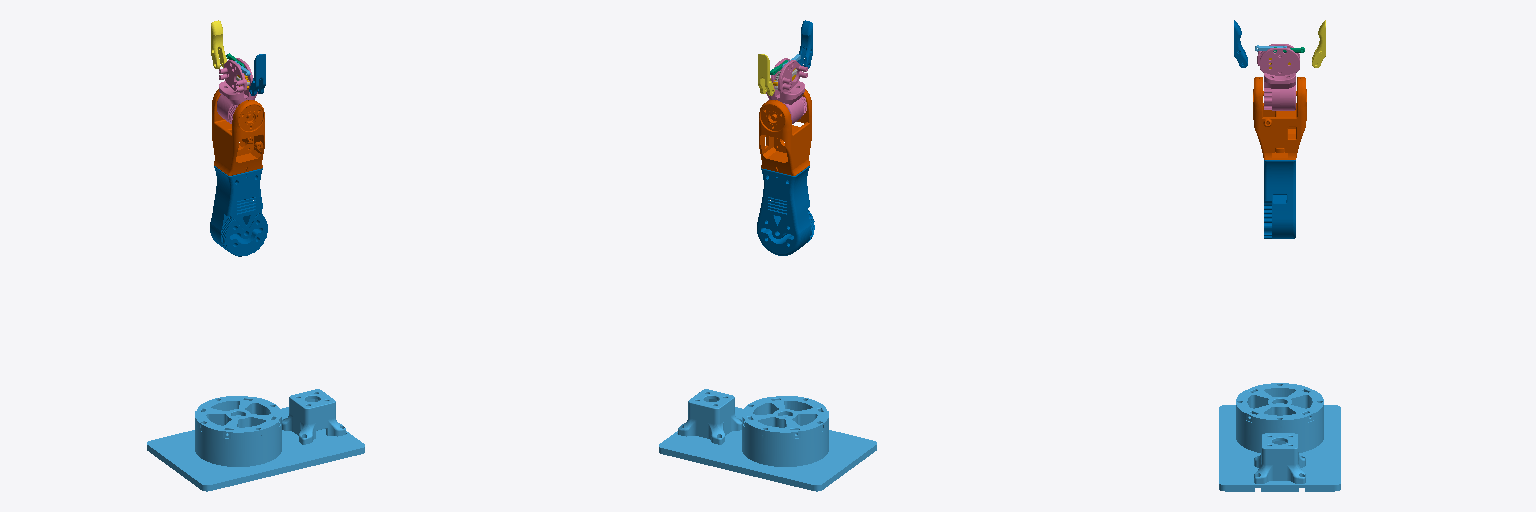
URDF robot description (oroca_manipulator):
<?xml version="1.0" ?>
<robot name="oroca_manipulator">

    <link name="world"/>
    <link name="base_link">
        <visual>
            <origin xyz="0 0 0" rpy="0 0 0"/>
            <geometry>
                <mesh filename="package://oroca_manipulator_description/meshes/base_link.stl" scale="1 1 1"/>
            </geometry>
        </visual>
        <collision>
            <origin xyz="0 0 0" rpy="0 0 0"/>
            <geometry>
                <mesh filename="package://oroca_manipulator_description/meshes/base_link.stl" scale="1 1 1"/>
            </geometry>
        </collision>
        <inertial>
            <mass value="1.0"/>
            <origin xyz="0 0 0" rpy="0 0 0"/>
            <inertia ixx="1.0" ixy="0.0" ixz="0.0" iyy="1.0" iyz="0.0" izz="1.0"/>
        </inertial>
    </link>

    <joint name="base_link_fixed" type="fixed">
        <parent link="world"/>
        <child link="base_link"/>
        <origin xyz="0 0 0" rpy="0 0 0"/>
    </joint>

    <link name="arm_link1">
        <visual>
            <origin xyz="0 0 0" rpy="0 0 0"/>
            <geometry>
                <mesh filename="package://oroca_manipulator_description/meshes/arm_link1.stl" scale="1 1 1"/>
            </geometry>
        </visual>
        <collision>
            <origin xyz="0 0 0" rpy="0 0 0"/>
            <geometry>
                <mesh filename="package://oroca_manipulator_description/meshes/arm_link1.stl" scale="1 1 1"/>
            </geometry>
        </collision>
        <inertial>
            <mass value="1.0"/>
            <origin xyz="0 0 0" rpy="0 0 0"/>
            <inertia ixx="1.0" ixy="0.0" ixz="0.0" iyy="1.0" iyz="0.0" izz="1.0"/>
        </inertial>
    </link>

    <joint name="arm_joint1" type="revolute">
        <parent link="base_link"/>
        <child link="arm_link1"/>
        <origin xyz="0 0 0.068" rpy="0 0 0"/>
        <axis xyz="0 0 1"/>
        <limit effort="10" velocity="1.0" lower="-3.14" upper="3.14"/>
    </joint>
   

    <link name="arm_link2">
        <visual>
            <origin xyz="0 0 0" rpy="0 0 0"/>
            <geometry>
                <mesh filename="package://oroca_manipulator_description/meshes/arm_link2.stl" scale="1 1 1"/>
            </geometry>
        </visual>
        <collision>
            <origin xyz="0 0 0" rpy="0 0 0"/>
            <geometry>
                <mesh filename="package://oroca_manipulator_description/meshes/arm_link2.stl" scale="1 1 1"/>
            </geometry>
        </collision>
        <inertial>
            <mass value="1.0"/>
            <origin xyz="0 0 0" rpy="0 0 0"/>
            <inertia ixx="1.0" ixy="0.0" ixz="0.0" iyy="1.0" iyz="0.0" izz="1.0"/>
        </inertial>
    </link>

    <joint name="arm_joint2" type="revolute">
        <parent link="arm_link1"/>
        <child link="arm_link2"/>
        <origin xyz="0 0 0.129" rpy="0 0 0"/>
        <axis xyz="0 1 0"/>
        <limit effort="10" velocity="1.0" lower="-1.57" upper="1.57"/>
    </joint>
    

    <link name="arm_link3">
        <visual>
            <origin xyz="0 0 0" rpy="0 0 0"/>
            <geometry>
                <mesh filename="package://oroca_manipulator_description/meshes/arm_link3.stl" scale="1 1 1"/>
            </geometry>
        </visual>
        <collision>
            <origin xyz="0 0 0" rpy="0 0 0"/>
            <geometry>
                <mesh filename="package://oroca_manipulator_description/meshes/arm_link3.stl" scale="1 1 1"/>
            </geometry>
        </collision>
        <inertial>
            <mass value="1.0"/>
            <origin xyz="0 0 0" rpy="0 0 0"/>
            <inertia ixx="1.0" ixy="0.0" ixz="0.0" iyy="1.0" iyz="0.0" izz="1.0"/>
        </inertial>
    </link>

    <joint name="arm_joint3" type="revolute">
        <parent link="arm_link2"/>
        <child link="arm_link3"/>
        <origin xyz="0 0 0.175" rpy="0 0 0"/>
        <axis xyz="0 1 0"/>
        <limit effort="10" velocity="1.0" lower="-1.57" upper="1.57"/>
    </joint>
    

    <link name="arm_link4">
        <visual>
            <origin xyz="0 0 0" rpy="0 0 0"/>
            <geometry>
                <mesh filename="package://oroca_manipulator_description/meshes/arm_link4.stl" scale="1 1 1"/>
            </geometry>
        </visual>
        <collision>
            <origin xyz="0 0 0" rpy="0 0 0"/>
            <geometry>
                <mesh filename="package://oroca_manipulator_description/meshes/arm_link4.stl" scale="1 1 1"/>
            </geometry>
        </collision>
        <inertial>
            <mass value="1.0"/>
            <origin xyz="0 0 0" rpy="0 0 0"/>
            <inertia ixx="1.0" ixy="0.0" ixz="0.0" iyy="1.0" iyz="0.0" izz="1.0"/>
        </inertial>
    </link>

    <joint name="arm_joint4" type="revolute">
        <parent link="arm_link3"/>
        <child link="arm_link4"/>
        <origin xyz="0 0 0.1005" rpy="0 0 0"/>
        <axis xyz="0 0 1"/>
        <limit effort="10" velocity="1.0" lower="-1.57" upper="1.57"/>
    </joint>
    

    <link name="arm_link5">
        <visual>
            <origin xyz="0 0 0" rpy="0 0 0"/>
            <geometry>
                <mesh filename="package://oroca_manipulator_description/meshes/arm_link5.stl" scale="1 1 1"/>
            </geometry>
        </visual>
        <collision>
            <origin xyz="0 0 0" rpy="0 0 0"/>
            <geometry>
                <mesh filename="package://oroca_manipulator_description/meshes/arm_link5.stl" scale="1 1 1"/>
            </geometry>
        </collision>
        <inertial>
            <mass value="1.0"/>
            <origin xyz="0 0 0" rpy="0 0 0"/>
            <inertia ixx="1.0" ixy="0.0" ixz="0.0" iyy="1.0" iyz="0.0" izz="1.0"/>
        </inertial>
    </link>

    <joint name="arm_joint5" type="revolute">
        <parent link="arm_link4"/>
        <child link="arm_link5"/>
        <origin xyz="0 0 0.0945" rpy="0 0 0"/>
        <axis xyz="0 1 0"/>
        <limit effort="10" velocity="1.0" lower="-1.57" upper="1.57"/>
    </joint>
    
    <link name="gripper_l_outer_link">
        <visual>
            <origin xyz="0 0 0" rpy="0 0 1.57"/>
            <geometry>
                <mesh filename="package://oroca_manipulator_description/meshes/gripper_outer_link.stl" scale="1 1 1"/>
            </geometry>
        </visual>
        <collision>
            <origin xyz="0 0 0" rpy="0 0 1.57"/>
            <geometry>
                <mesh filename="package://oroca_manipulator_description/meshes/gripper_outer_link.stl" scale="1 1 1"/>
            </geometry>
        </collision>
        <inertial>
            <mass value="1.0"/>
            <origin xyz="0 0 0" rpy="0 0 0"/>
            <inertia ixx="1.0" ixy="0.0" ixz="0.0" iyy="1.0" iyz="0.0" izz="1.0"/>
        </inertial>
    </link>

    <joint name="gripper_joint" type="revolute">
        <parent link="arm_link5"/>
        <child link="gripper_l_outer_link"/>
        <origin xyz="0 0.014 0.052" rpy="0 0 0"/>
        <axis xyz="1 0 0"/>
        <limit effort="10" velocity="1.0" lower="0.0" upper="1.57"/>
    </joint>
    

    <link name="gripper_r_outer_link">
        <visual>
            <origin xyz="0 0 0" rpy="0 0 -1.57"/>
            <geometry>
                <mesh filename="package://oroca_manipulator_description/meshes/gripper_outer_link.stl" scale="1 1 1"/>
            </geometry>
        </visual>
        <collision>
            <origin xyz="0 0 0" rpy="0 0 -1.57"/>
            <geometry>
                <mesh filename="package://oroca_manipulator_description/meshes/gripper_outer_link.stl" scale="1 1 1"/>
            </geometry>
        </collision>
        <inertial>
            <mass value="1.0"/>
            <origin xyz="0 0 0" rpy="0 0 0"/>
            <inertia ixx="1.0" ixy="0.0" ixz="0.0" iyy="1.0" iyz="0.0" izz="1.0"/>
        </inertial>
    </link>

    <joint name="gripper_r_outer_joint" type="revolute">
        <parent link="arm_link5"/>
        <child link="gripper_r_outer_link"/>
        <origin xyz="0 -0.014 0.052" rpy="0 0 0"/>
        <axis xyz="1 0 0"/>
        <limit effort="10" velocity="1.0" lower="-1.57" upper="0"/>
        <mimic joint="gripper_joint" multiplier="-1" offset="0"/>
    </joint>

    <link name="gripper_l_inner_link">
        <visual>
            <origin xyz="0 0 0" rpy="0 0 1.57"/>
            <geometry>
                <mesh filename="package://oroca_manipulator_description/meshes/gripper_inner_link.stl" scale="1 1 1"/>
            </geometry>
        </visual>
        <collision>
            <origin xyz="0 0 0" rpy="0 0 1.57"/>
            <geometry>
                <mesh filename="package://oroca_manipulator_description/meshes/gripper_inner_link.stl" scale="1 1 1"/>
            </geometry>
        </collision>
        <inertial>
            <mass value="1.0"/>
            <origin xyz="0 0 0" rpy="0 0 0"/>
            <inertia ixx="1.0" ixy="0.0" ixz="0.0" iyy="1.0" iyz="0.0" izz="1.0"/>
        </inertial>
    </link>

    <joint name="gripper_l_inner_joint" type="revolute">
        <parent link="arm_link5"/>
        <child link="gripper_l_inner_link"/>
        <origin xyz="0 0.007 0.072" rpy="0 0 0"/>
        <axis xyz="1 0 0"/>
        <limit effort="10" velocity="1.0" lower="0" upper="1.57"/>
        <mimic joint="gripper_joint" multiplier="1" offset="0"/>
    </joint>
    

    <link name="gripper_r_inner_link">
        <visual>
            <origin xyz="0 0 0" rpy="0 0 -1.57"/>
            <geometry>
                <mesh filename="package://oroca_manipulator_description/meshes/gripper_inner_link.stl" scale="1 1 1"/>
            </geometry>
        </visual>
        <collision>
            <origin xyz="0 0 0" rpy="0 0 -1.57"/>
            <geometry>
                <mesh filename="package://oroca_manipulator_description/meshes/gripper_inner_link.stl" scale="1 1 1"/>
            </geometry>
        </collision>
        <inertial>
            <mass value="1.0"/>
            <origin xyz="0 0 0" rpy="0 0 0"/>
            <inertia ixx="1.0" ixy="0.0" ixz="0.0" iyy="1.0" iyz="0.0" izz="1.0"/>
        </inertial>
    </link>

    <joint name="gripper_r_inner_joint" type="revolute">
        <parent link="arm_link5"/>
        <child link="gripper_r_inner_link"/>
        <origin xyz="0 -0.007 0.072" rpy="0 0 0"/>
        <axis xyz="1 0 0"/>
        <limit effort="10" velocity="1.0" lower="-1.57" upper="0"/>
        <mimic joint="gripper_joint" multiplier="-1" offset="0"/>
    </joint>
   


    <link name="gripper_l_finger_link">
        <visual>
            <origin xyz="0 0 0" rpy="0 0 1.57"/>
            <geometry>
                <mesh filename="package://oroca_manipulator_description/meshes/gripper_finger.stl" scale="1 1 1"/>
            </geometry>
        </visual>
        <collision>
            <origin xyz="0 0 0" rpy="0 0 $1.57"/>
            <geometry>
                <mesh filename="package://oroca_manipulator_description/meshes/gripper_finger.stl" scale="1 1 1"/>
            </geometry>
        </collision>
        <inertial>
            <mass value="1.0"/>
            <origin xyz="0 0 0" rpy="0 0 0"/>
            <inertia ixx="1.0" ixy="0.0" ixz="0.0" iyy="1.0" iyz="0.0" izz="1.0"/>
        </inertial>
    </link>

    <joint name="gripper_l_finger_joint" type="revolute">
        <parent link="gripper_l_outer_link"/>
        <child link="gripper_l_finger_link"/>
        <origin xyz="0 0.040 0" rpy="0 0 0"/>
        <axis xyz="1 0 0"/>
        <limit effort="10" velocity="1.0" lower="-1.57" upper="1.57"/>
        <mimic joint="gripper_joint" multiplier="-1" offset="0"/>
    </joint>
    

    <link name="gripper_r_finger_link">
        <visual>
            <origin xyz="0 0 0" rpy="0 0 -1.57"/>
            <geometry>
                <mesh filename="package://oroca_manipulator_description/meshes/gripper_finger.stl" scale="1 1 1"/>
            </geometry>
        </visual>
        <collision>
            <origin xyz="0 0 0" rpy="0 0 -1.57"/>
            <geometry>
                <mesh filename="package://oroca_manipulator_description/meshes/gripper_finger.stl" scale="1 1 1"/>
            </geometry>
        </collision>
        <inertial>
            <mass value="1.0"/>
            <origin xyz="0 0 0" rpy="0 0 0"/>
            <inertia ixx="1.0" ixy="0.0" ixz="0.0" iyy="1.0" iyz="0.0" izz="1.0"/>
        </inertial>
    </link>

    <joint name="gripper_r_finger_joint" type="revolute">
        <parent link="gripper_r_outer_link"/>
        <child link="gripper_r_finger_link"/>
        <origin xyz="0 -0.040 0" rpy="0 0 0"/>
        <axis xyz="1 0 0"/>
        <limit effort="10" velocity="1.0" lower="-1.57" upper="1.57"/>
        <mimic joint="gripper_joint" multiplier="1" offset="0"/>
    </joint>
    
    <link name="eef"/>

    <joint name="eef_fixed_joint" type="fixed">
        <parent link="arm_link5"/>
        <child link="eef"/>
        <origin xyz="0 0 0.130" rpy="0 0 0"/>
    </joint>
	
	<gazebo>
    <plugin name="MimicJointPlugin" filename="libroboticsgroup_gazebo_mimic_joint_plugin.so">
      joint="gripper_joint"
      mimicJoint="gripper_r_outer_joint"
      multiplier="-1"
      offset="0"
    </plugin>
    
	<plugin name="MimicJointPlugin" filename="libroboticsgroup_gazebo_mimic_joint_plugin.so">
      joint="gripper_joint"
      mimicJoint="gripper_l_inner_joint"
      multiplier="1"
      offset="0"
    </plugin>
	
	<plugin name="MimicJointPlugin" filename="libroboticsgroup_gazebo_mimic_joint_plugin.so">
      joint="gripper_joint"
      mimicJoint="gripper_r_inner_joint"
      multiplier="-1"
      offset="0"
    </plugin>
	
	<plugin name="MimicJointPlugin" filename="libroboticsgroup_gazebo_mimic_joint_plugin.so">
      joint="gripper_joint"
      mimicJoint="gripper_l_finger_joint"
      multiplier="-1"
      offset="0"
    </plugin>
	
	<plugin name="MimicJointPlugin" filename="libroboticsgroup_gazebo_mimic_joint_plugin.so">
      joint="gripper_joint"
      mimicJoint="gripper_r_finger_joint"
      multiplier="1"
      offset="0"
    </plugin>
	
	
  </gazebo>
	
	
	
</robot>

--- What the picture shows (computed from the rendered views, not written in the file) ---
3 views of the same robot in one strip: view 1: azimuth 30°, elevation 25°; view 2: azimuth 150°, elevation 25°; view 3: azimuth 270°, elevation 25° (orthographic).
Model oroca_manipulator with 14 links and 13 joints (11 revolute, 2 fixed), rooted at world, posed every joint at zero.
Visible links, largest first — view 1: base_link, arm_link3, arm_link4, arm_link5, gripper_l_finger_link; view 2: base_link, arm_link3, arm_link4, arm_link5, gripper_r_finger_link; view 3: base_link, arm_link4, arm_link3, arm_link5.
Boxes of the visible links, box(x1,y1,x2,y2) form: base_link: box(147, 389, 364, 491); arm_link3: box(210, 166, 267, 256); arm_link4: box(212, 89, 264, 175); arm_link5: box(217, 58, 257, 123); gripper_l_finger_link: box(211, 20, 226, 68); base_link: box(659, 389, 876, 491); arm_link3: box(757, 166, 814, 255); arm_link4: box(759, 89, 811, 175); arm_link5: box(766, 58, 807, 123); gripper_r_finger_link: box(797, 20, 812, 68); base_link: box(1219, 383, 1340, 491); arm_link4: box(1253, 77, 1306, 159); arm_link3: box(1264, 160, 1295, 238); arm_link5: box(1257, 44, 1299, 110).
Bounding box of the posed robot: 0.28 × 0.18 × 0.6835 m (x, y, z).
Meshes: 9 distinct files referenced, 10 mesh visuals loaded (7 binary STL); not drawn: 2 (reference not matched to a file when rendering).